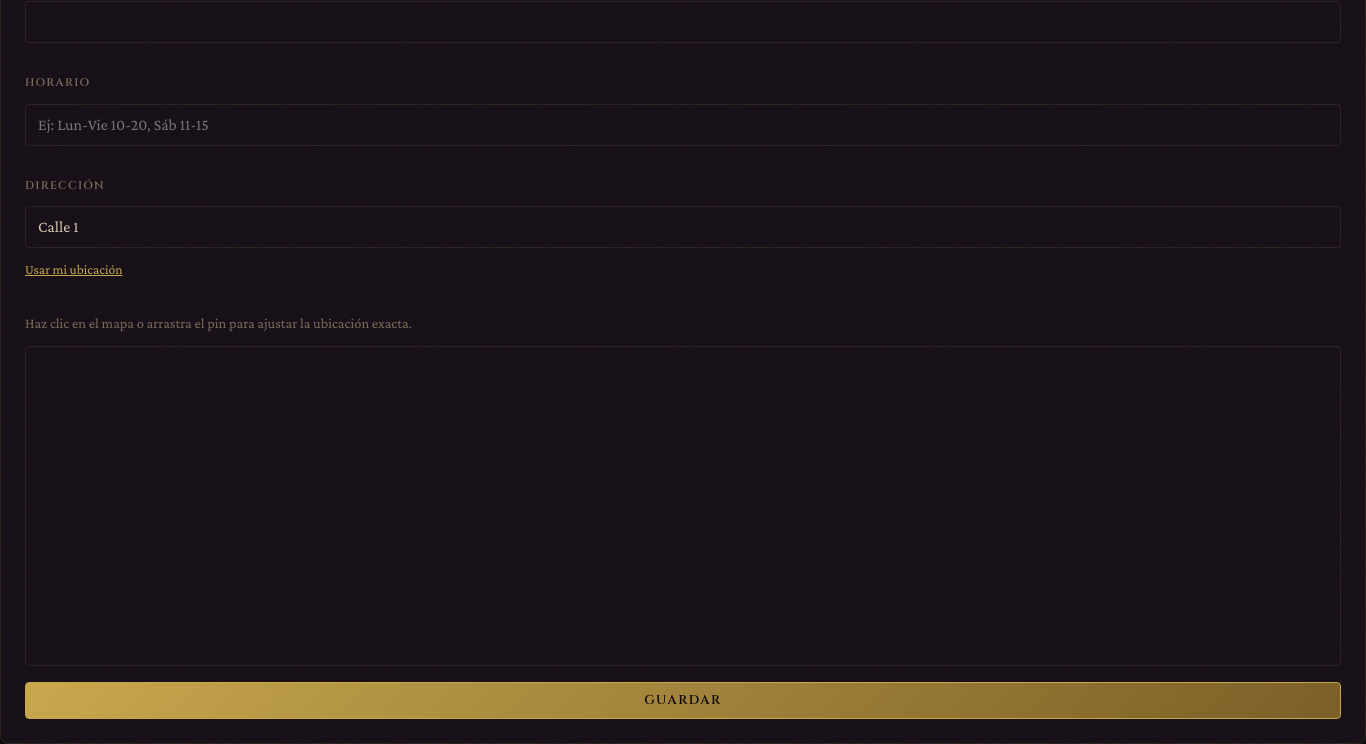
it: ConfiguracionTiendaTab › muestra error cuando falla el guardado
(page scrolled)
Click the button "Guardar".
click(683, 701)  # box [25,682,1341,720]
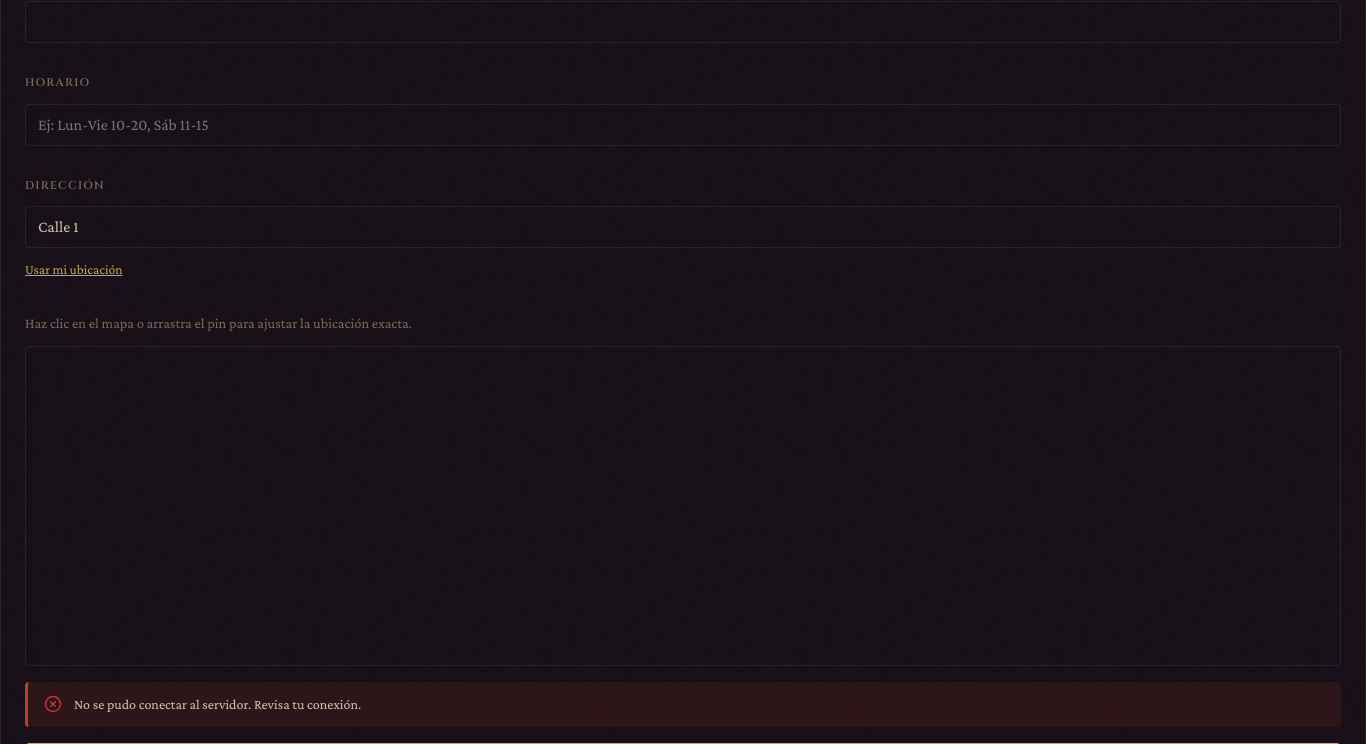
Expected: the text "No se pudo conectar al servidor. Revisa tu conexión." is shown, [74,694,361,715]
